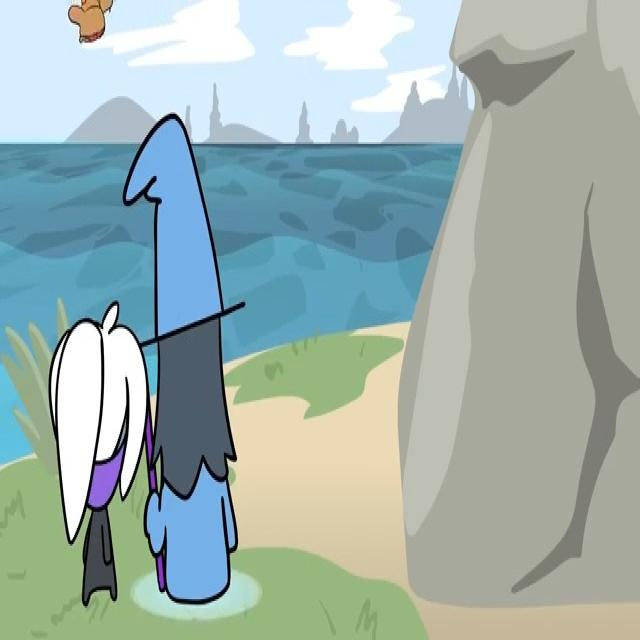Haagen-Daz: (68, 0, 113, 43)
Josh: (123, 113, 246, 606)
miss Demeanor: (47, 299, 149, 607)
